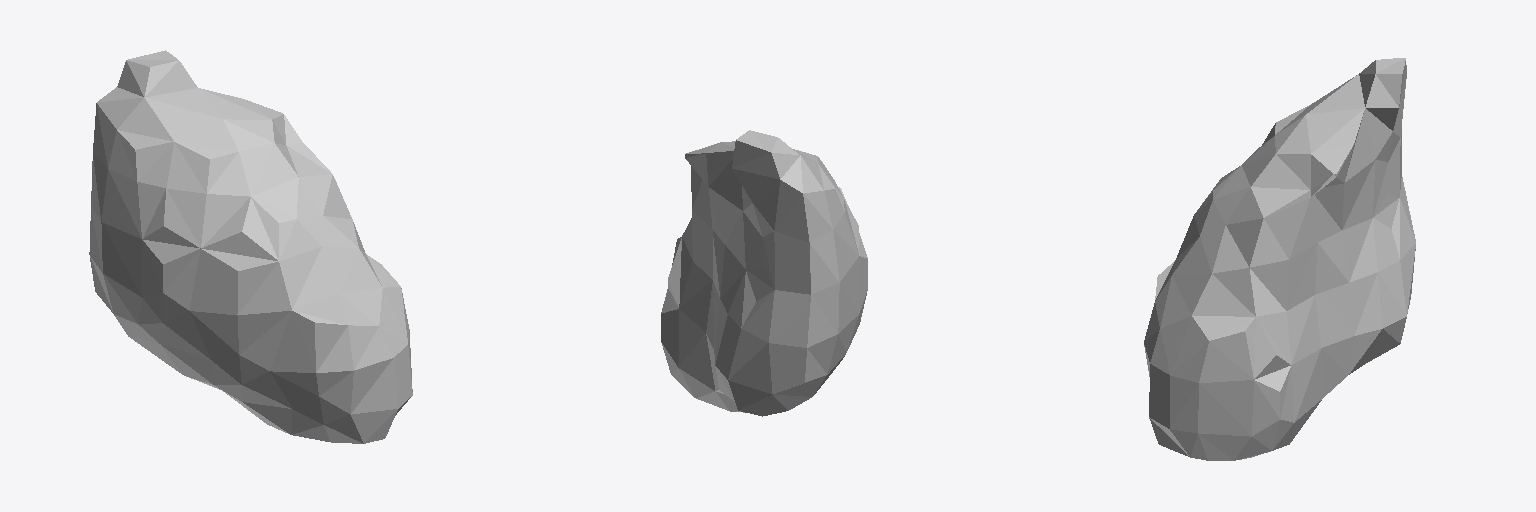
The model's file is modeloPiedras5.obj.
3 views of the same model, side by side, from view 1: azimuth 30°, elevation 25°; view 2: azimuth 150°, elevation 25°; view 3: azimuth 270°, elevation 25° (orthographic).
Bounding box in the file's own units: 2.93 × 4.15 × 3.06.